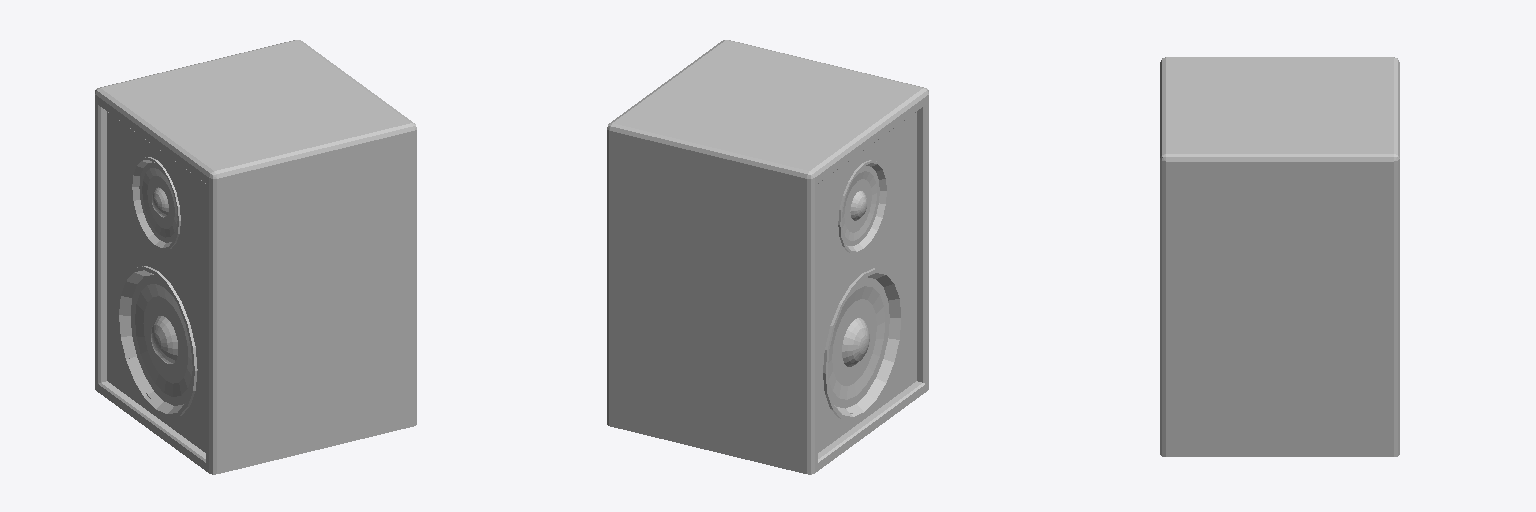
Rendered from Speaker.obj.
The picture shows the model from 3 angles: view 1: azimuth 30°, elevation 25°; view 2: azimuth 150°, elevation 25°; view 3: azimuth 270°, elevation 25°; orthographic projection.
Size of the model in its own units: 22.5 by 31.18 by 22.5.